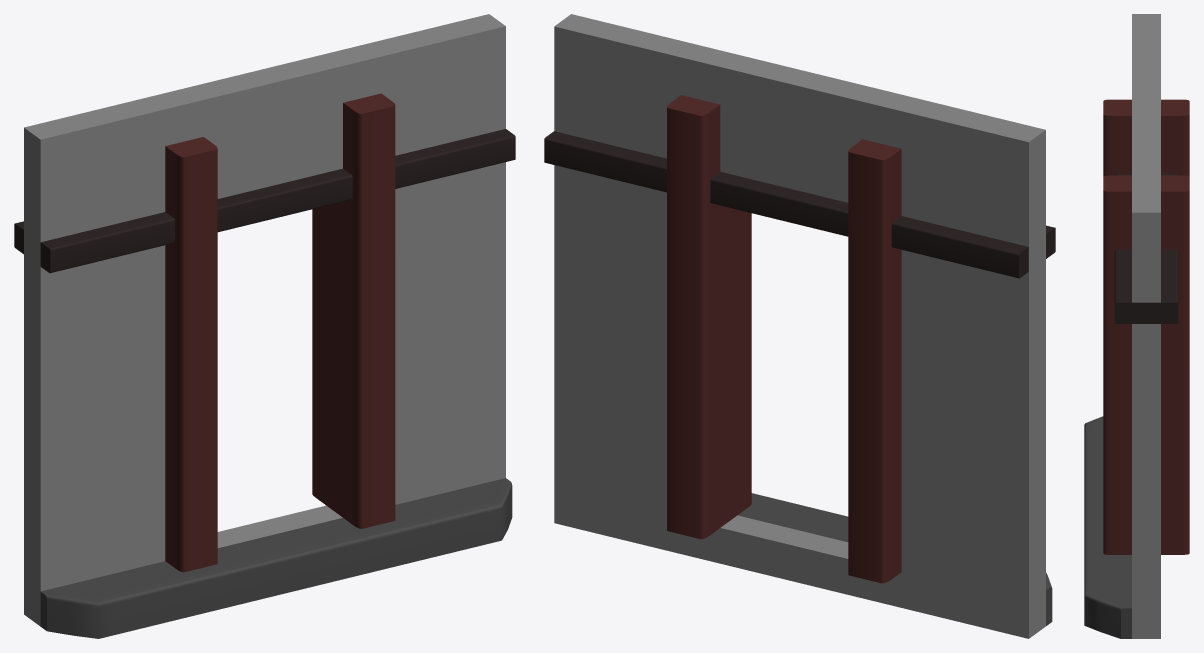
The model's file is Wall_01_DoorHole.FBX.
The picture shows the model from 3 angles, left to right: view 1: azimuth 30°, elevation 25°; view 2: azimuth 150°, elevation 25°; view 3: azimuth 270°, elevation 25°; orthographic projection. The views are drawn at different scales.
Visible parts, largest first — view 1: Wall_002, Beams_Vertical_Rectangle, Stone_Base002, Beams_Horizontal002; view 2: Wall_002, Beams_Vertical_Rectangle, Beams_Horizontal002, Stone_Base002; view 3: Beams_Vertical_Rectangle, Wall_002, Stone_Base002, Beams_Horizontal002.
Boxes of the visible parts, left/top/right/bottom form: Wall_002: left=24, top=14, right=505, bottom=626; Beams_Vertical_Rectangle: left=165, top=93, right=395, bottom=572; Stone_Base002: left=40, top=478, right=512, bottom=638; Beams_Horizontal002: left=14, top=129, right=515, bottom=273; Wall_002: left=554, top=14, right=1045, bottom=638; Beams_Vertical_Rectangle: left=667, top=95, right=901, bottom=583; Beams_Horizontal002: left=544, top=131, right=1055, bottom=278; Stone_Base002: left=738, top=493, right=1052, bottom=625; Beams_Vertical_Rectangle: left=1103, top=99, right=1189, bottom=554; Wall_002: left=1132, top=14, right=1160, bottom=638; Stone_Base002: left=1084, top=416, right=1131, bottom=638; Beams_Horizontal002: left=1114, top=173, right=1178, bottom=323.
Bounding box in the file's own units: 120 × 120 × 26.85.
